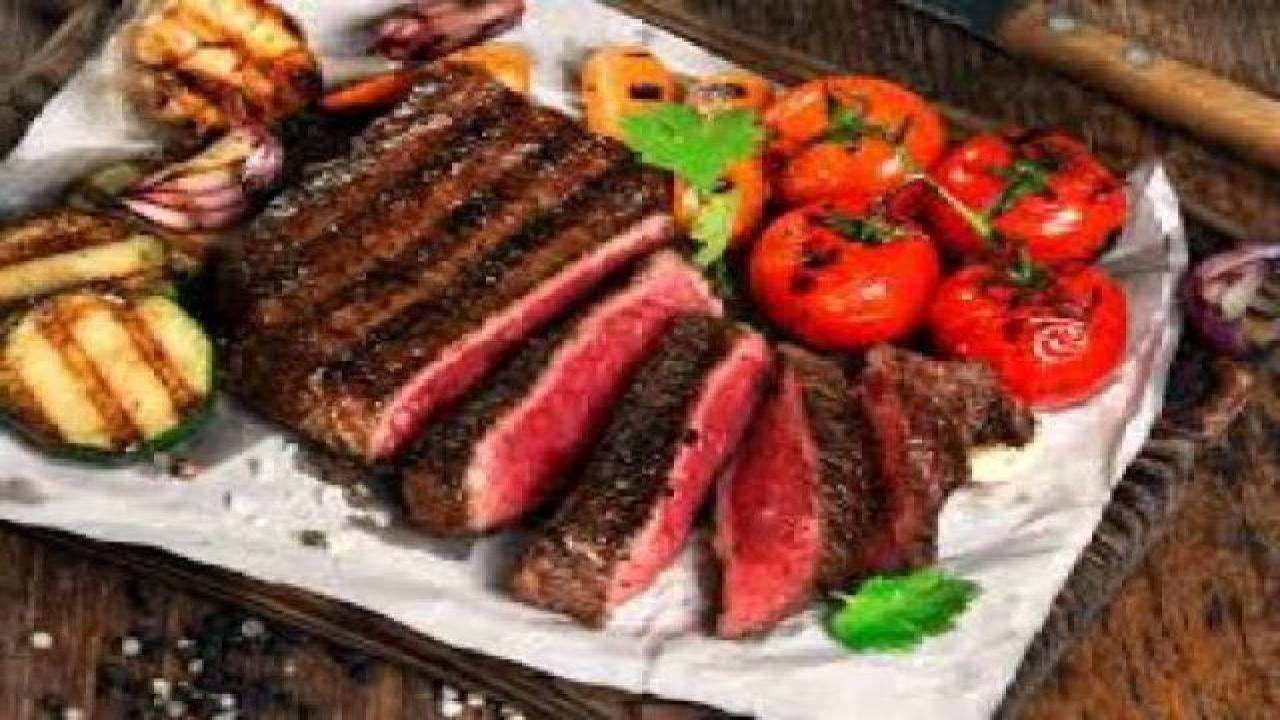Carne: (180, 55, 731, 461), (426, 257, 710, 531), (635, 319, 760, 632), (724, 358, 843, 646), (861, 325, 963, 614)
